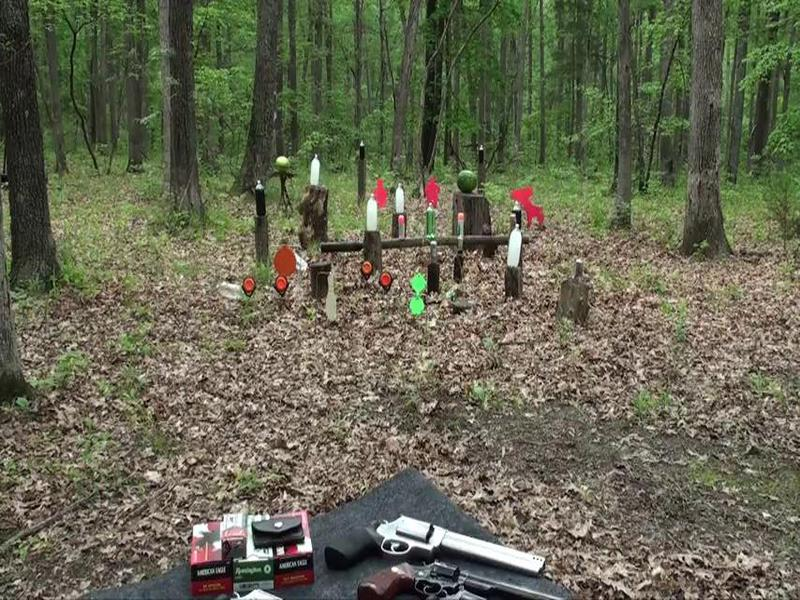Revolver: (327, 515, 555, 574)
